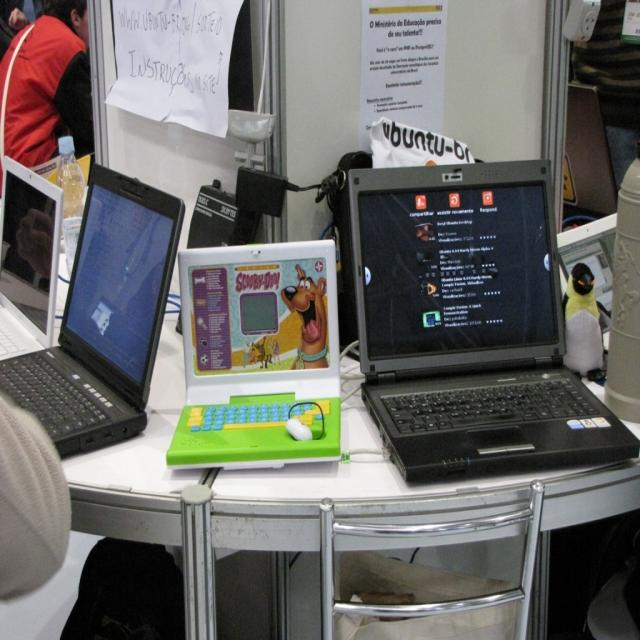Laptop: (337, 146, 625, 515), (0, 162, 188, 463), (168, 243, 343, 472), (0, 155, 64, 358), (566, 78, 615, 221)
